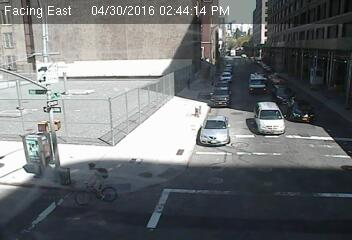neg: (87, 147, 127, 200), (90, 76, 125, 123), (144, 144, 178, 190), (304, 95, 338, 141), (28, 156, 61, 200), (21, 8, 49, 46), (198, 116, 223, 149), (122, 5, 145, 36), (293, 34, 311, 58), (307, 5, 325, 28), (253, 46, 266, 63), (237, 21, 246, 34), (235, 66, 242, 76), (237, 48, 243, 55)
